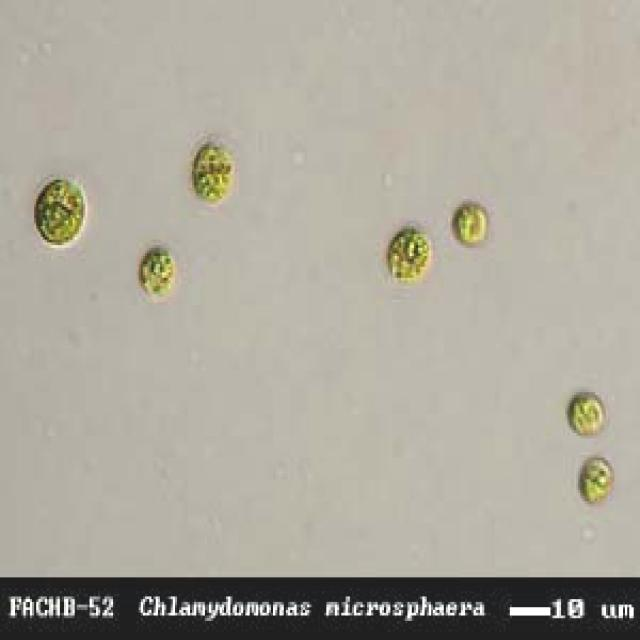Green Algae: (188, 133, 237, 207), (34, 174, 85, 245), (380, 223, 431, 286), (563, 384, 606, 441), (139, 240, 177, 302), (450, 199, 491, 250), (580, 455, 614, 501)
